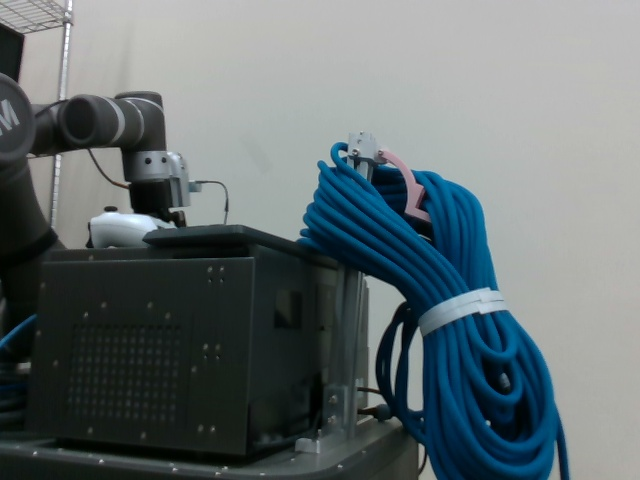rope: (312, 143, 572, 480)
